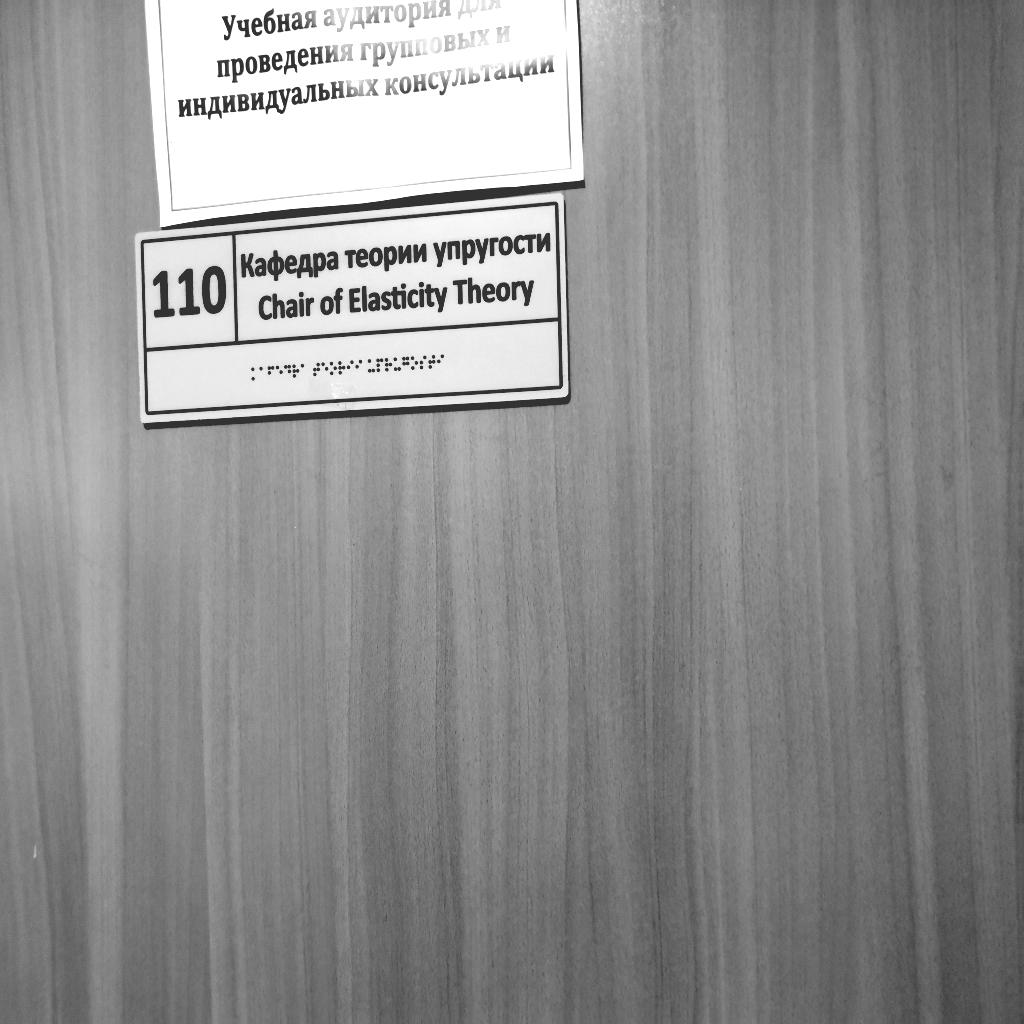_y: (368, 359, 375, 373), (394, 357, 401, 371)
a: (301, 363, 308, 378), (260, 367, 267, 381)
d: (284, 364, 291, 379)
e: (276, 366, 283, 380), (322, 362, 329, 376)
f: (268, 366, 274, 380)
g: (402, 356, 409, 371)
i: (437, 354, 444, 370), (347, 360, 354, 375), (355, 360, 362, 375)
k: (251, 367, 258, 381)
o: (330, 362, 337, 376), (411, 356, 418, 370)
p: (377, 358, 384, 372)
r: (385, 357, 392, 372), (293, 364, 300, 378), (339, 361, 346, 375)
s: (420, 355, 427, 369)
t: (428, 354, 436, 369), (313, 363, 320, 377)
